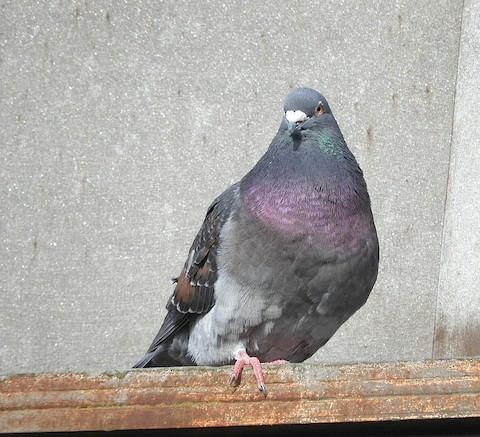pigeon: (132, 78, 399, 392)
